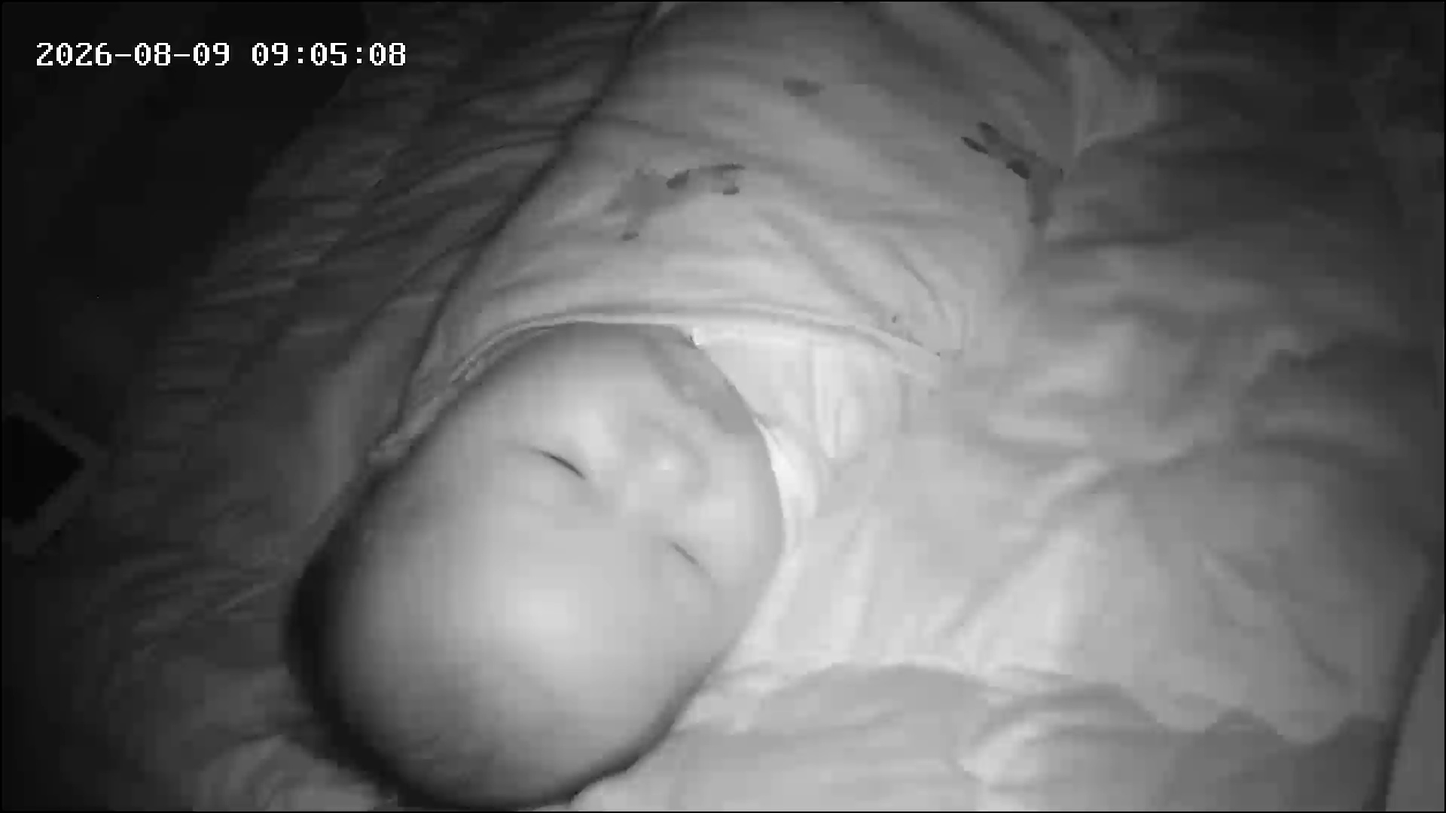baby: (284, 0, 1096, 810)
baby_face: (281, 314, 809, 809)
